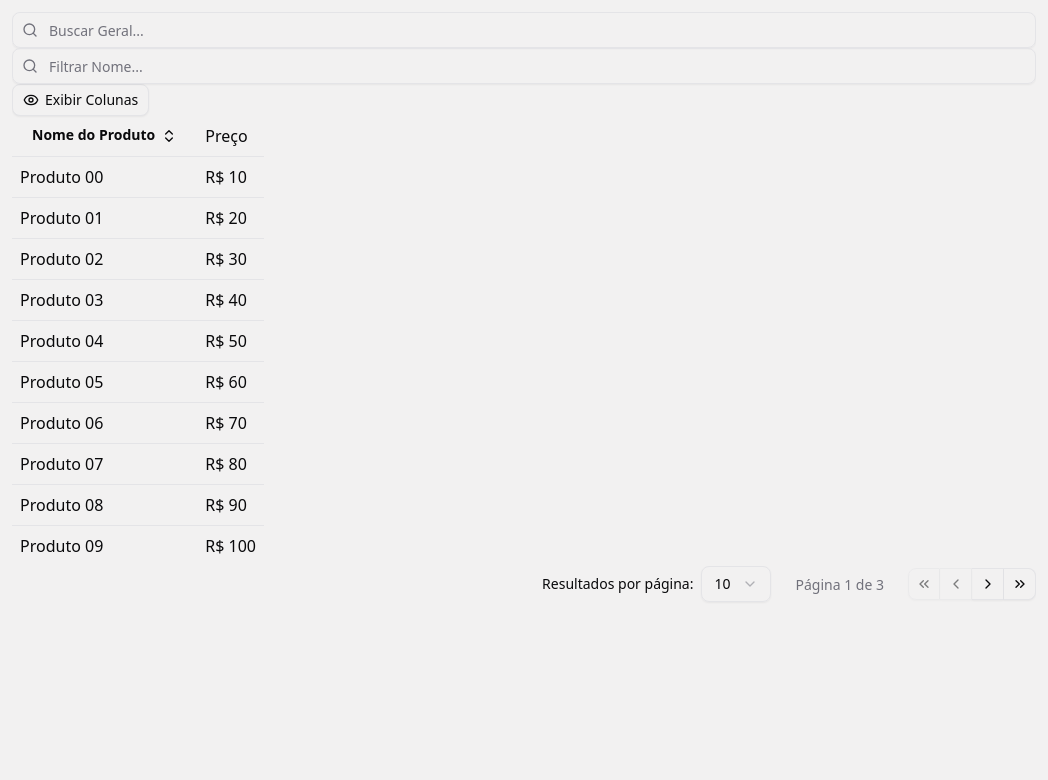
Test case: DataTable Integration & Coverage › should toggle column visibility
Expected: the column heading "Preço" is shown, 197,116 -> 264,156
What coordinates should you click on to do the following:
click the button "Exibir Colunas"
I would click on:
 (81, 100)
Its box is 12,84 -> 149,116.
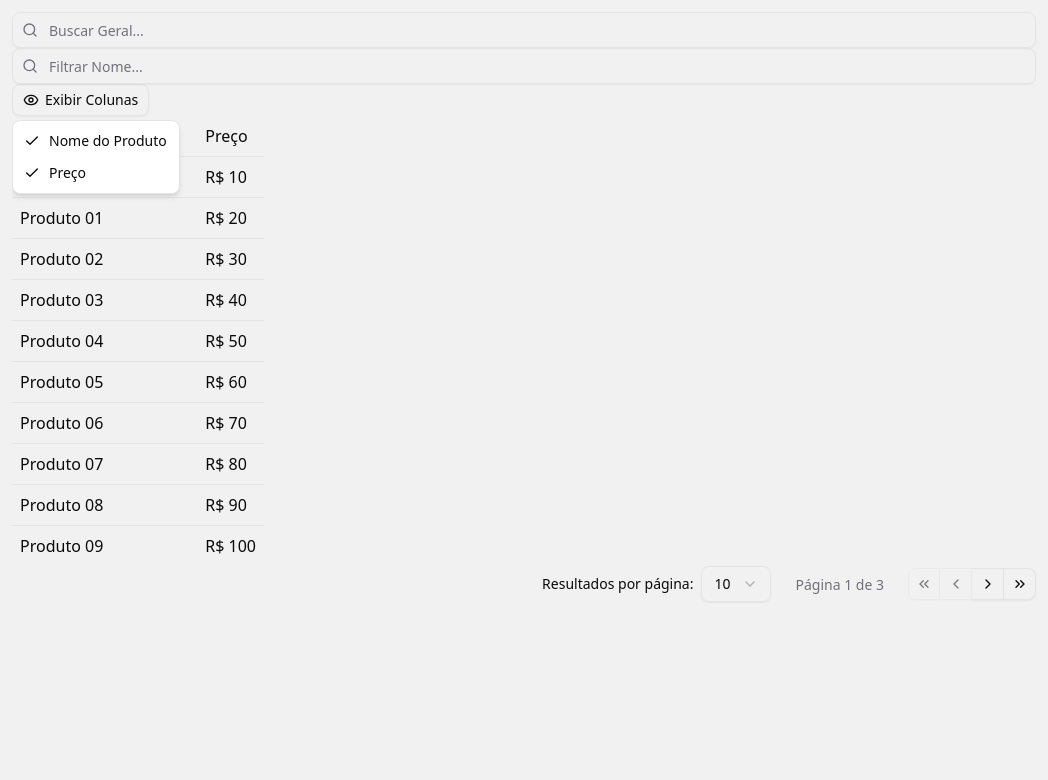
What coordinates should you click on to do the following:
click the menu item "Preço"
I would click on:
 (55, 172)
Its box is 24,163 -> 86,182.
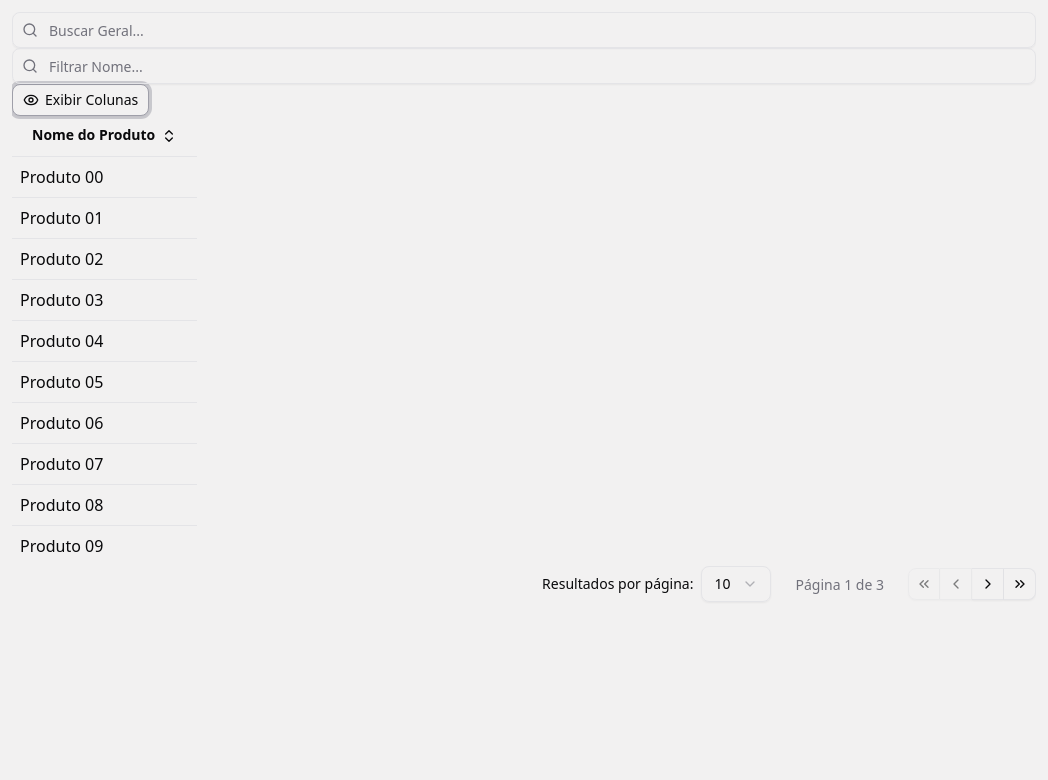
Result: the column heading "Preço" is gone
